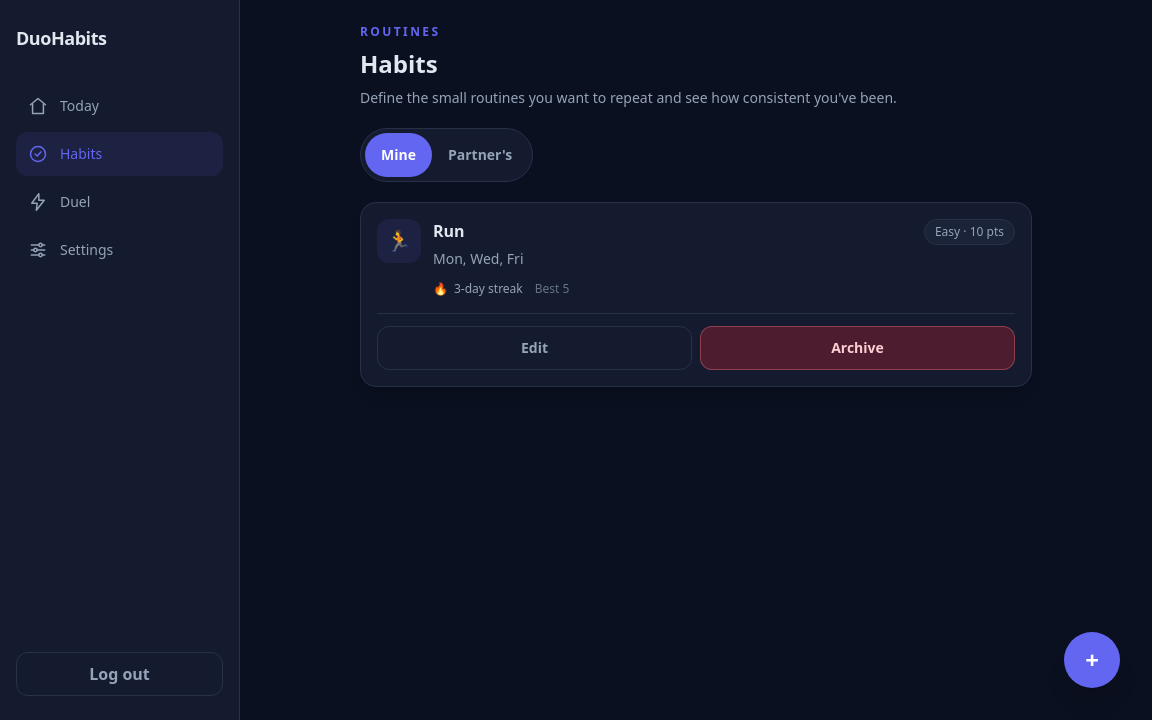
Test: HabitsPage › confirms before archiving from the list and refreshes the list
This screenshot has width=1152, height=720.
Expected: the heading "Habits" is shown, x1=360 y1=47 x2=438 y2=80
Expected: the heading "Run" is shown, x1=433 y1=219 x2=465 y2=243
Click the button with aria-label "Archive Run". click: click(858, 348)
box: x1=700 y1=326 x2=1015 y2=370
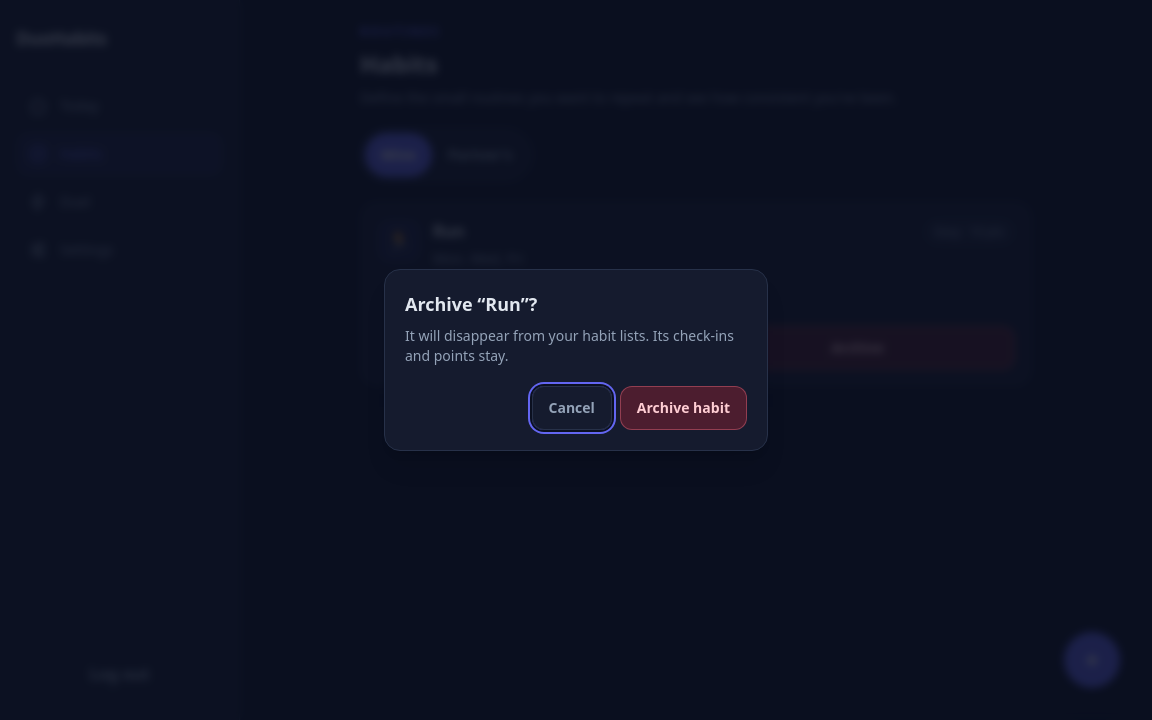
Now the heading "Archive “Run”?" is shown, box x1=405 y1=292 x2=537 y2=316
Click the button "Cancel". click: click(572, 408)
box: x1=532 y1=386 x2=612 y2=430
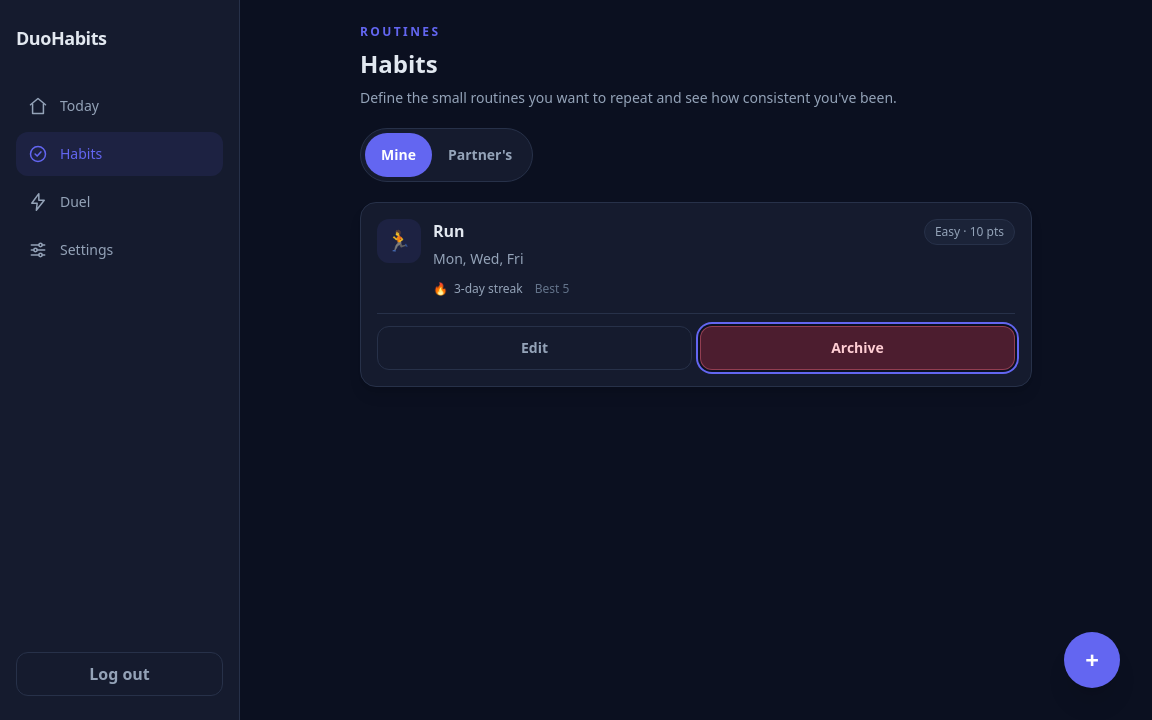
Now the dialog is gone
Click the button with aria-label "Archive Run". click: click(858, 348)
box: x1=700 y1=326 x2=1015 y2=370
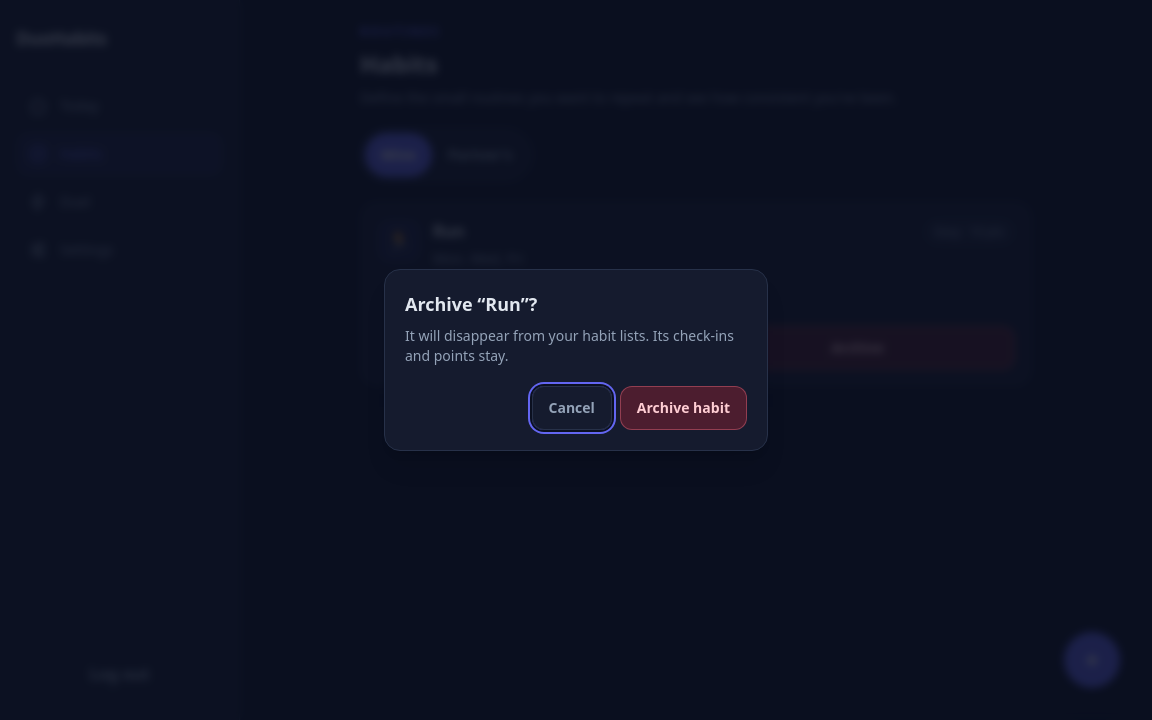
Click the button "Archive habit". click: click(683, 408)
box: x1=620 y1=386 x2=747 y2=430
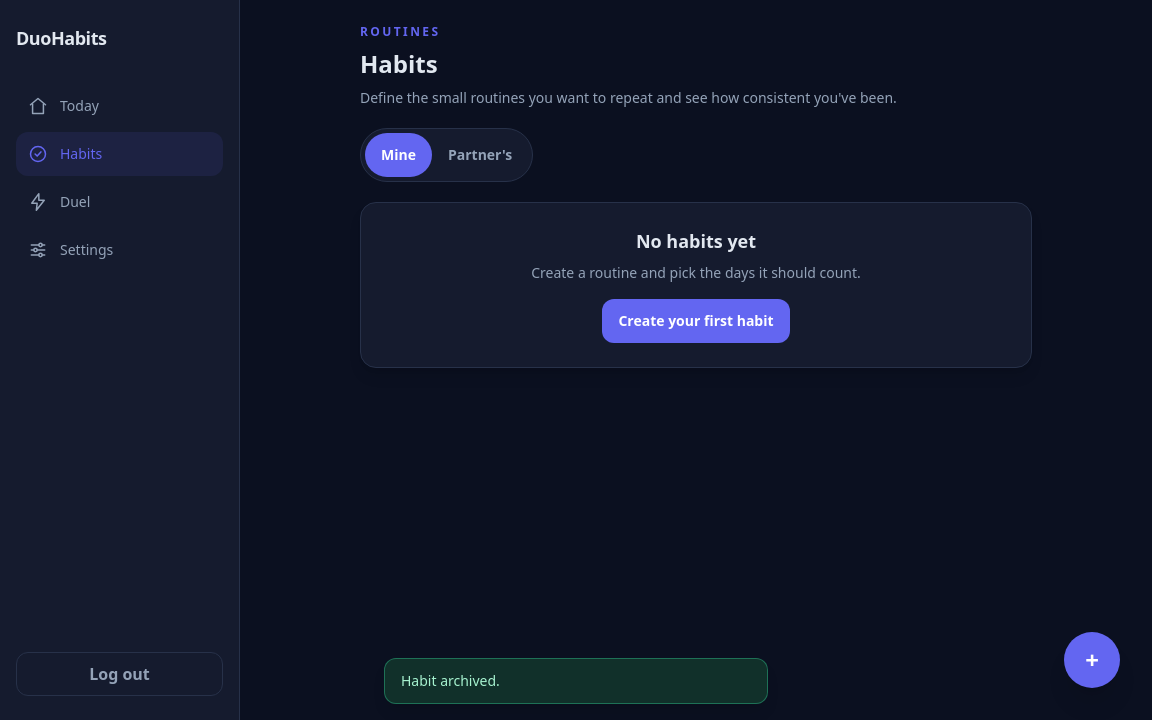
Now the text "Habit archived." is shown, box x1=384 y1=658 x2=768 y2=704
Now the heading "No habits yet" is shown, box x1=636 y1=229 x2=756 y2=253
Now the dialog is gone
